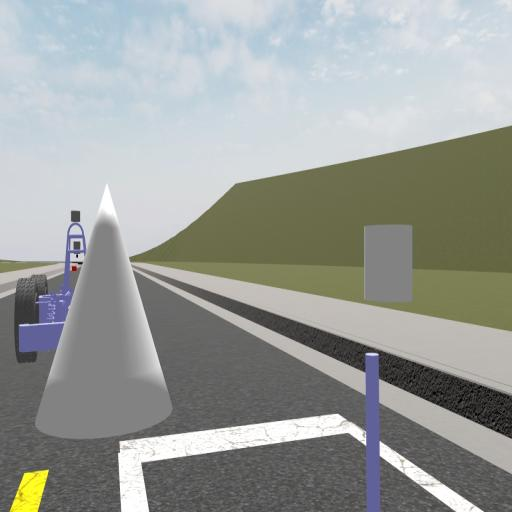ERP-42: (15, 215, 86, 363)
